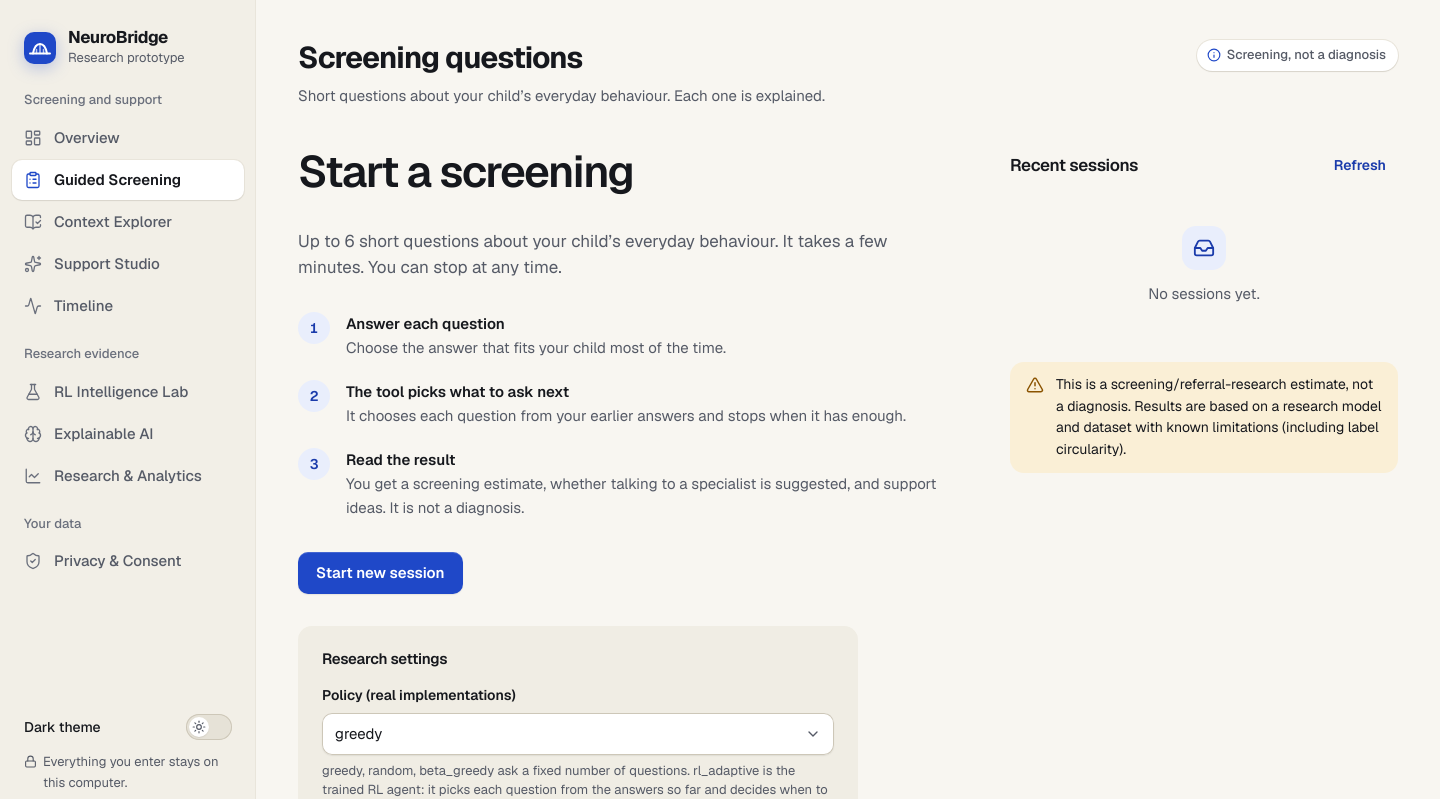
guided screening › on a 409 (stale answer) it reloads the current question from the server
Click the button "Start new session".
click(380, 573)  # box [298,552,462,594]
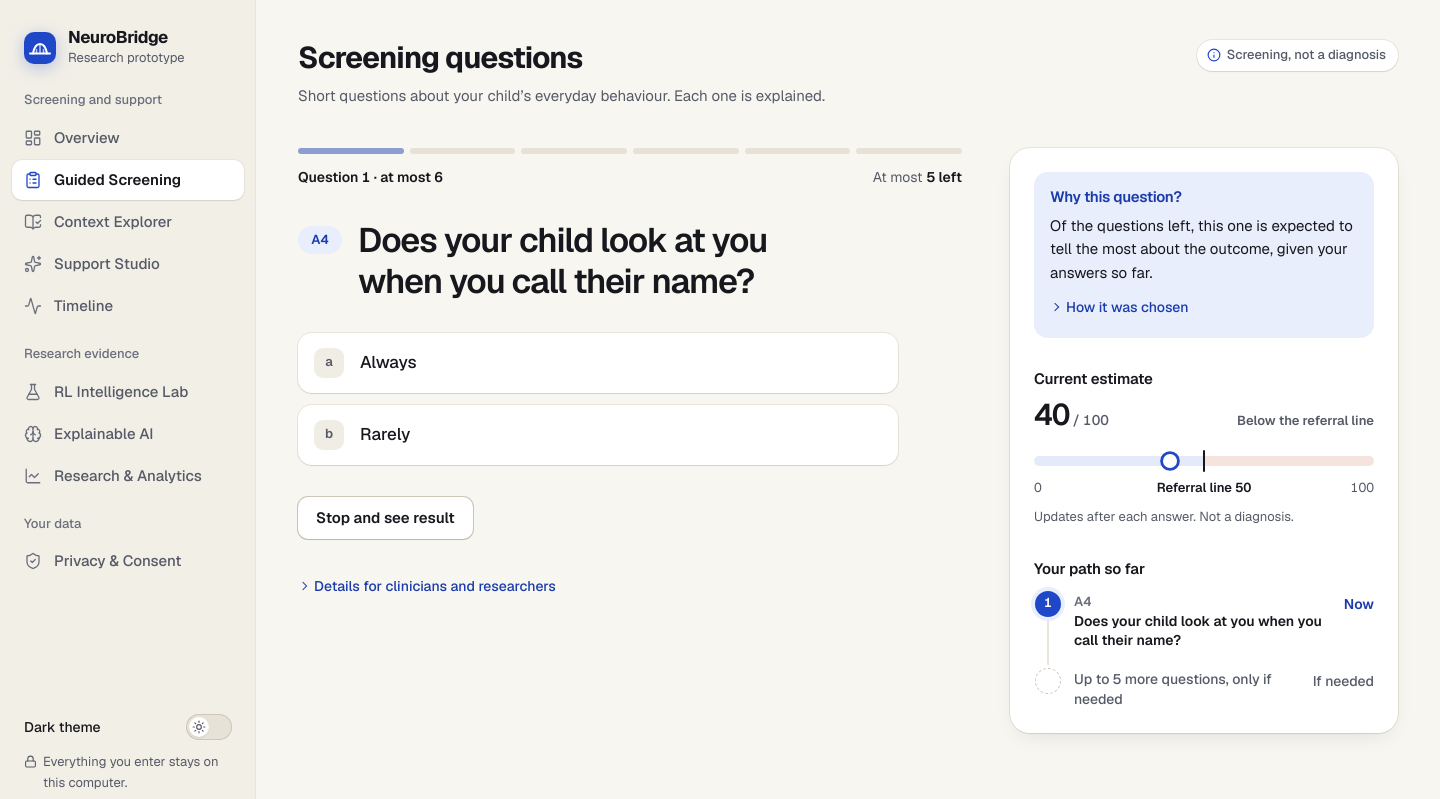
Click the button "a Always".
click(388, 362)  # box [298,333,898,393]
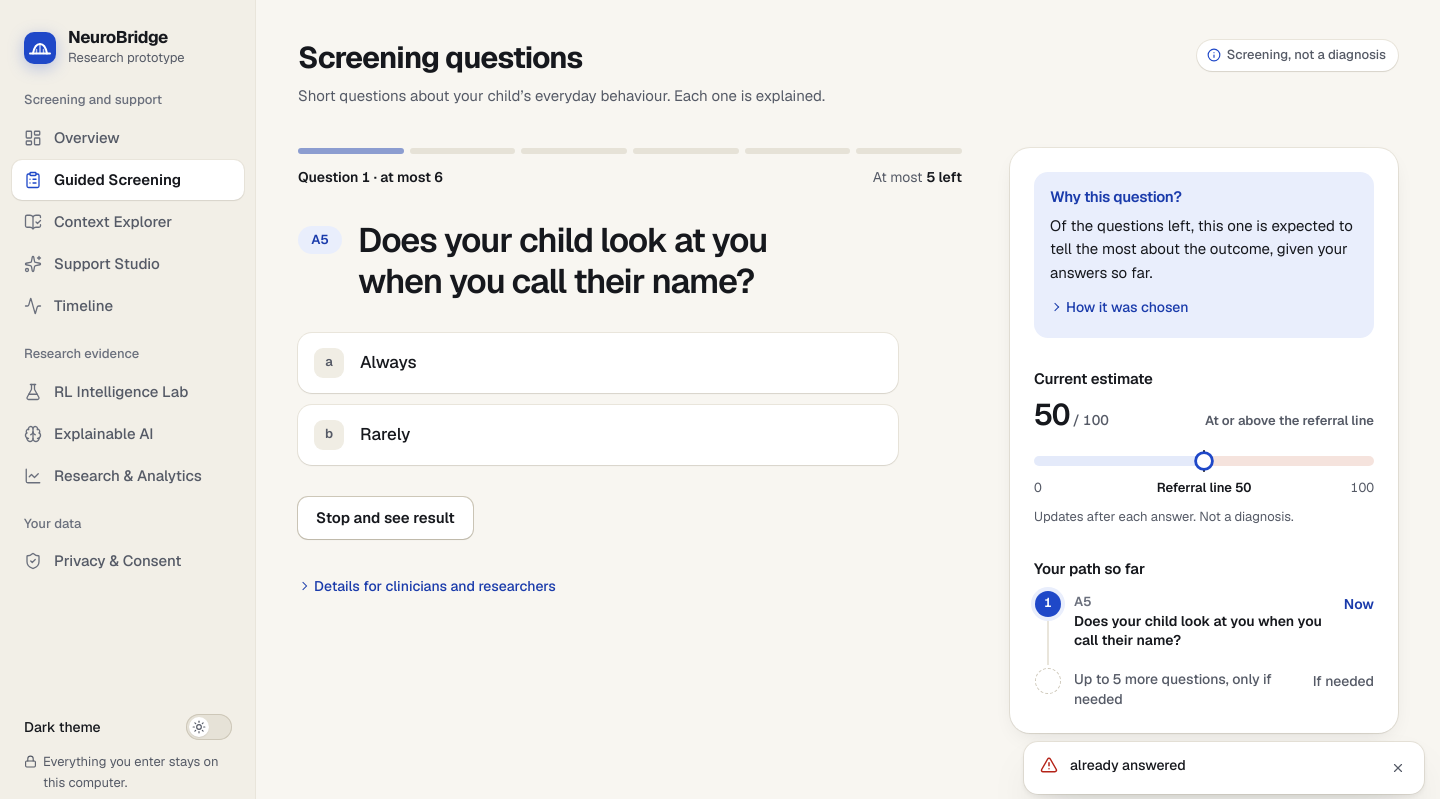
Result: the heading "A5 Does your child look at you when you call their name?" is shown at [298,218,767,302]
Result: the message reads "already answered" at [1070,756,1186,774]
